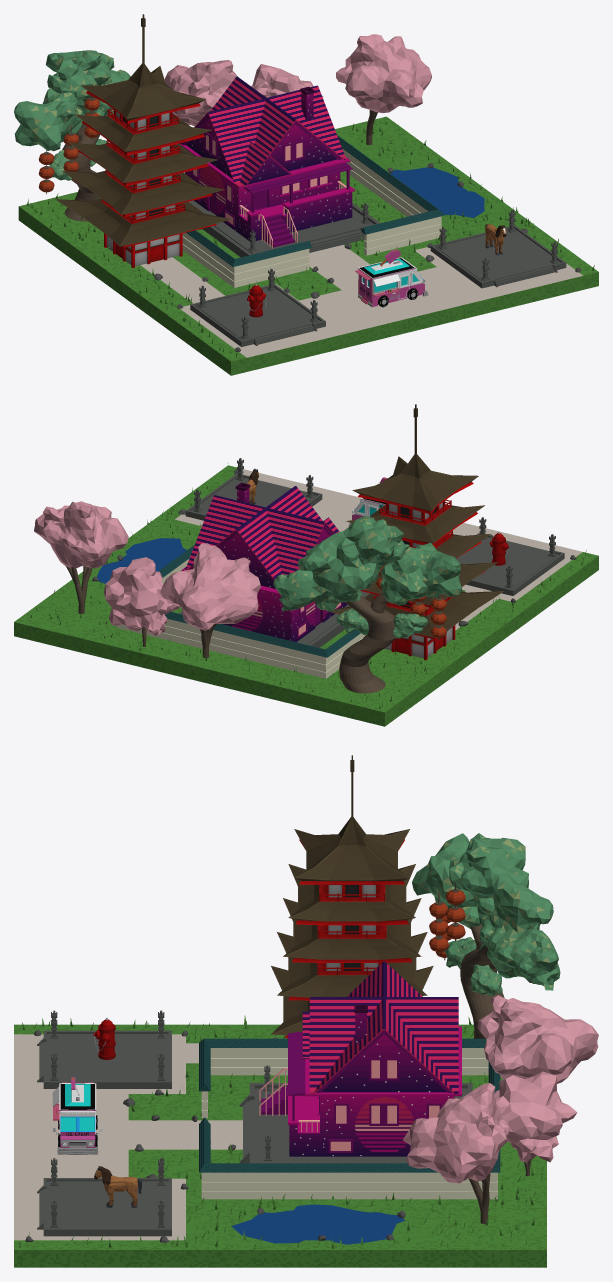
3 views of the same model, one above another, from view 1: azimuth 30°, elevation 25°; view 2: azimuth 150°, elevation 25°; view 3: azimuth 270°, elevation 25° (orthographic). The views are drawn at different scales.
Visible parts, largest first — view 1: Cube.005, Cube.156, VEHICLES_ICE_CREAM_TRUCK, ANIMAL_CABALLO; view 2: Cube.005, Cube.156, VEHICLES_ICE_CREAM_TRUCK, OBJRANDOM_FIRE_HYDRANT; view 3: Cube.005, Cube.156, VEHICLES_ICE_CREAM_TRUCK, ANIMAL_CABALLO, OBJRANDOM_FIRE_HYDRANT.
Boxes of the visible parts, left/top/right/bottom form: Cube.005: left=14, top=14, right=598, bottom=375; Cube.156: left=179, top=76, right=354, bottom=248; VEHICLES_ICE_CREAM_TRUCK: left=355, top=249, right=428, bottom=307; ANIMAL_CABALLO: left=485, top=223, right=506, bottom=255; Cube.005: left=14, top=404, right=598, bottom=726; Cube.156: left=181, top=482, right=347, bottom=642; VEHICLES_ICE_CREAM_TRUCK: left=348, top=477, right=387, bottom=526; OBJRANDOM_FIRE_HYDRANT: left=489, top=532, right=509, bottom=565; Cube.005: left=14, top=755, right=598, bottom=1267; Cube.156: left=259, top=961, right=461, bottom=1156; VEHICLES_ICE_CREAM_TRUCK: left=52, top=1077, right=102, bottom=1154; ANIMAL_CABALLO: left=94, top=1166, right=141, bottom=1207; OBJRANDOM_FIRE_HYDRANT: left=93, top=1018, right=115, bottom=1059.
Size of the model in its own units: 4528 by 2690 by 4389.
Materials: 48 (7 with a texture image).
